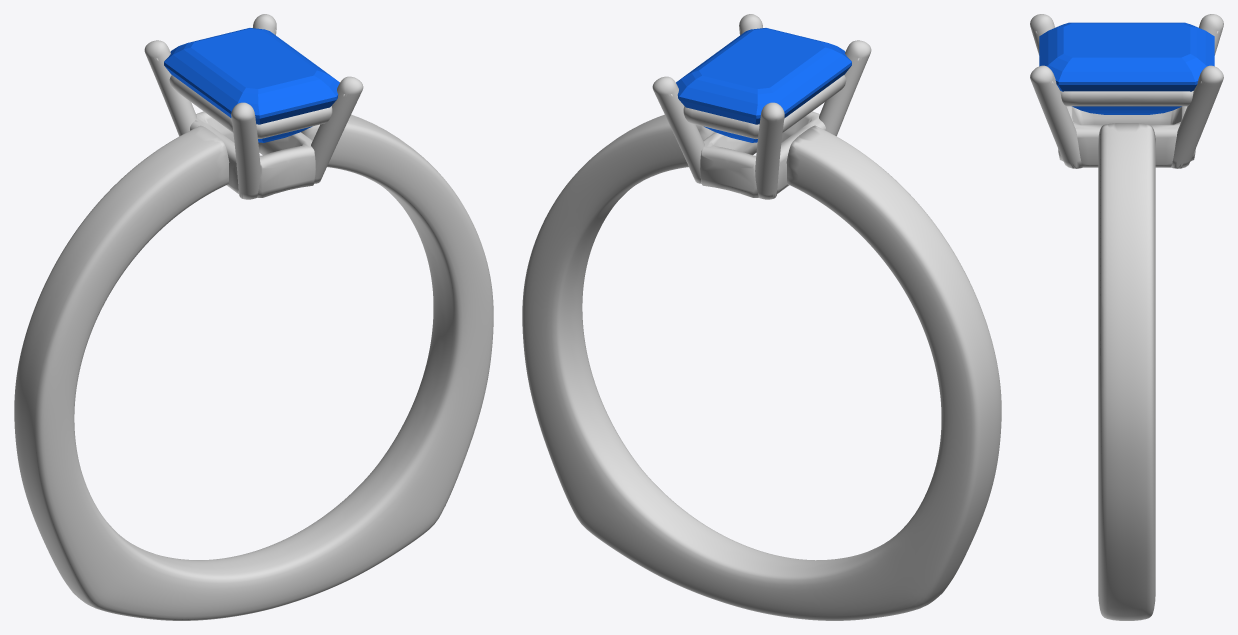
The model's file is bluesapphire-emerald-platinum-4prong-europeanshank-solitaire.glb.
3 views of the same model, side by side, from view 1: azimuth 30°, elevation 25°; view 2: azimuth 150°, elevation 25°; view 3: azimuth 270°, elevation 25° (orthographic).
Visible parts, largest first — view 1: metal, stone; view 2: metal, stone; view 3: metal, stone.
Boxes of the visible parts, x1,y1,x2,y2 form: metal: (14,14,493,620); stone: (164,28,339,142); metal: (522,14,1001,620); stone: (676,28,851,142); metal: (1030,14,1223,620); stone: (1039,22,1214,114).
Bounding box in the file's own units: 20.1 × 22.75 × 7.4.
